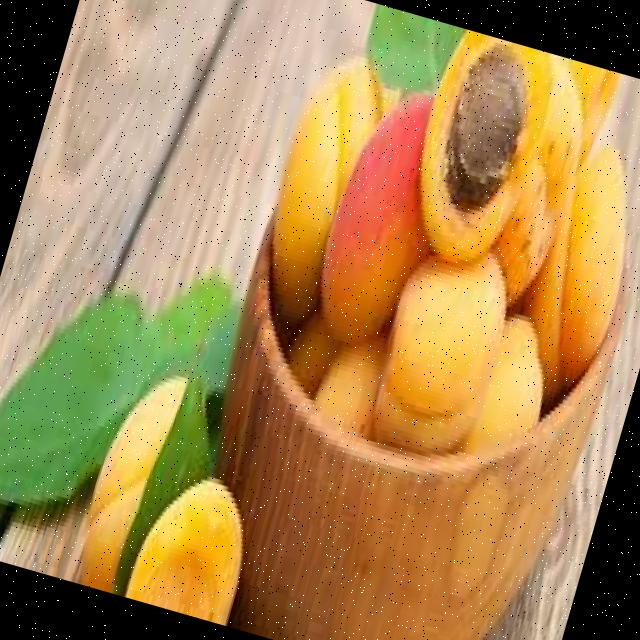Cekirdek: (445, 46, 524, 206)
Kayisi: (321, 92, 431, 339)
Yaprak: (0, 278, 238, 591)
